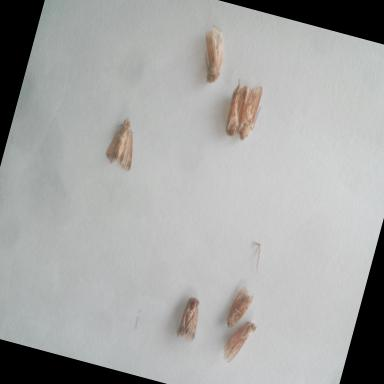abw: (190, 20, 236, 92), (99, 110, 146, 176), (217, 71, 260, 143), (228, 78, 269, 149), (216, 312, 261, 372), (220, 280, 261, 338), (172, 292, 209, 347)
